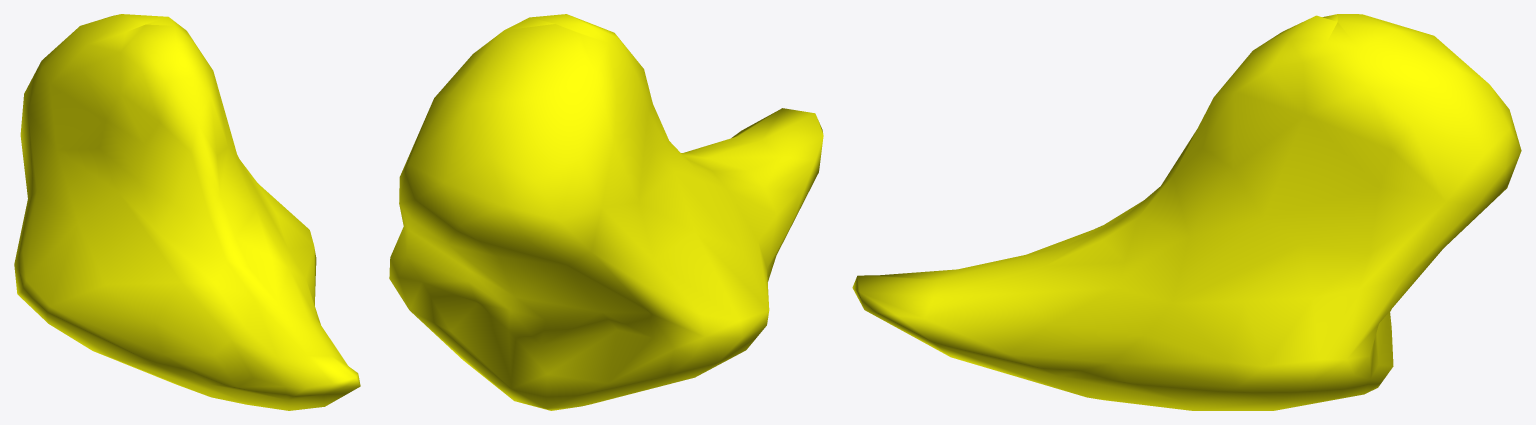
Rendered from drones.glb.
The picture shows the model from 3 angles, left to right: view 1: azimuth 30°, elevation 25°; view 2: azimuth 150°, elevation 25°; view 3: azimuth 270°, elevation 25°; orthographic projection. The views are drawn at different scales.
Visible parts, largest first — view 1: DroneOther; view 2: DroneOther; view 3: DroneOther.
Part boxes in pixels (x1,y1,x2,y2): DroneOther: (14,14,360,410); DroneOther: (389,14,823,410); DroneOther: (852,14,1521,410).
Bounding box in the file's own units: 0.1053 × 0.1129 × 0.1831.
Materials: 1 (1 with a texture image).
